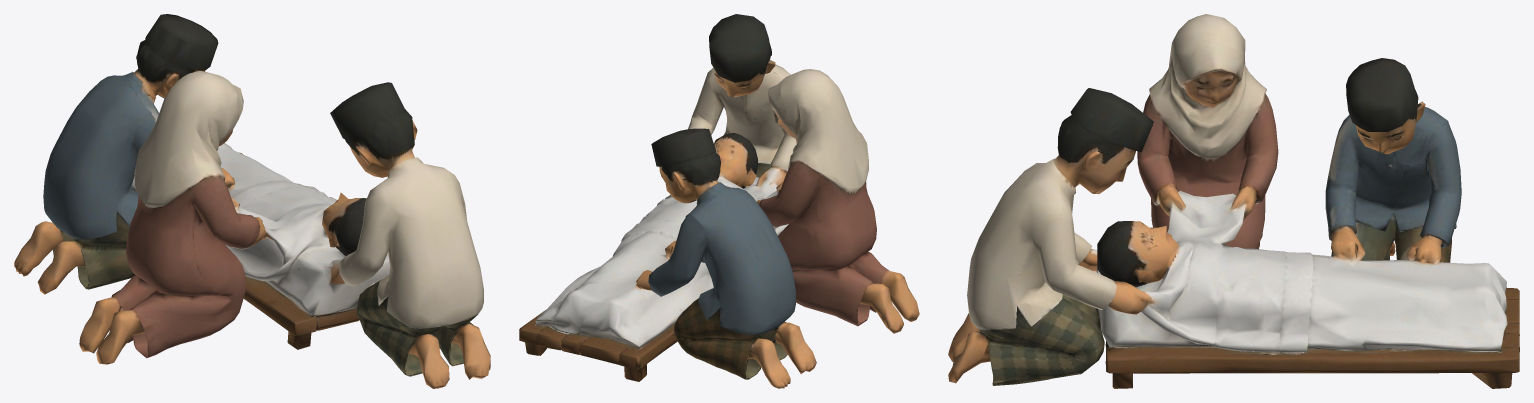
Rendered from Tausug2-512(10k).glb.
3 views of the same model, side by side, from view 1: azimuth 30°, elevation 25°; view 2: azimuth 150°, elevation 25°; view 3: azimuth 270°, elevation 25° (orthographic). The views are drawn at different scales.
Visible parts, largest first — view 1: tripo_node_a196572d-4daf-49c4-946e-a008b1abb7eb; view 2: tripo_node_a196572d-4daf-49c4-946e-a008b1abb7eb; view 3: tripo_node_a196572d-4daf-49c4-946e-a008b1abb7eb.
Boxes of the visible parts, box(x1,y1,x2,y2) form: tripo_node_a196572d-4daf-49c4-946e-a008b1abb7eb: box(14, 14, 490, 388); tripo_node_a196572d-4daf-49c4-946e-a008b1abb7eb: box(519, 14, 919, 388); tripo_node_a196572d-4daf-49c4-946e-a008b1abb7eb: box(948, 14, 1519, 388).
Bounding box in the file's own units: 0.6573 × 0.5262 × 0.9795.
Materials: 1 (1 with a texture image).
